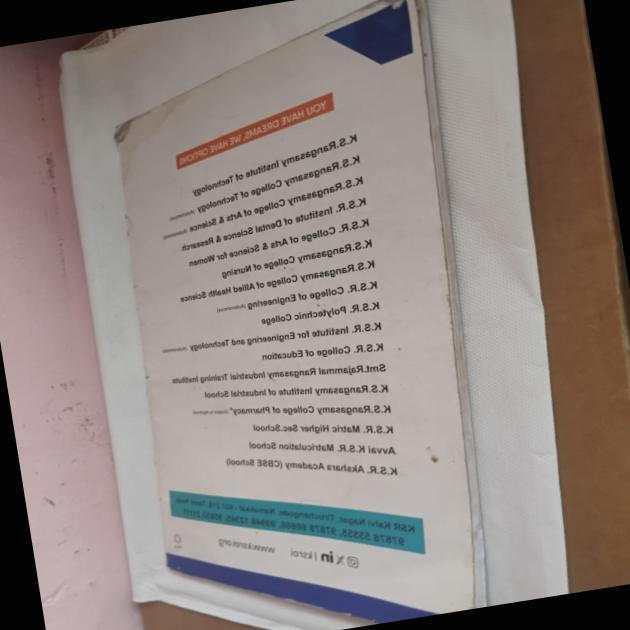notebook: (90, 0, 535, 630)
